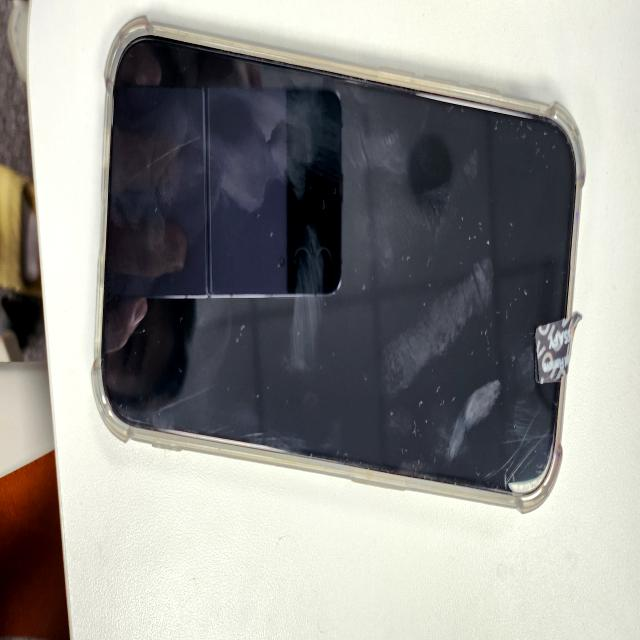phone: (92, 18, 588, 516)
removed_sticker: (537, 318, 577, 382)
